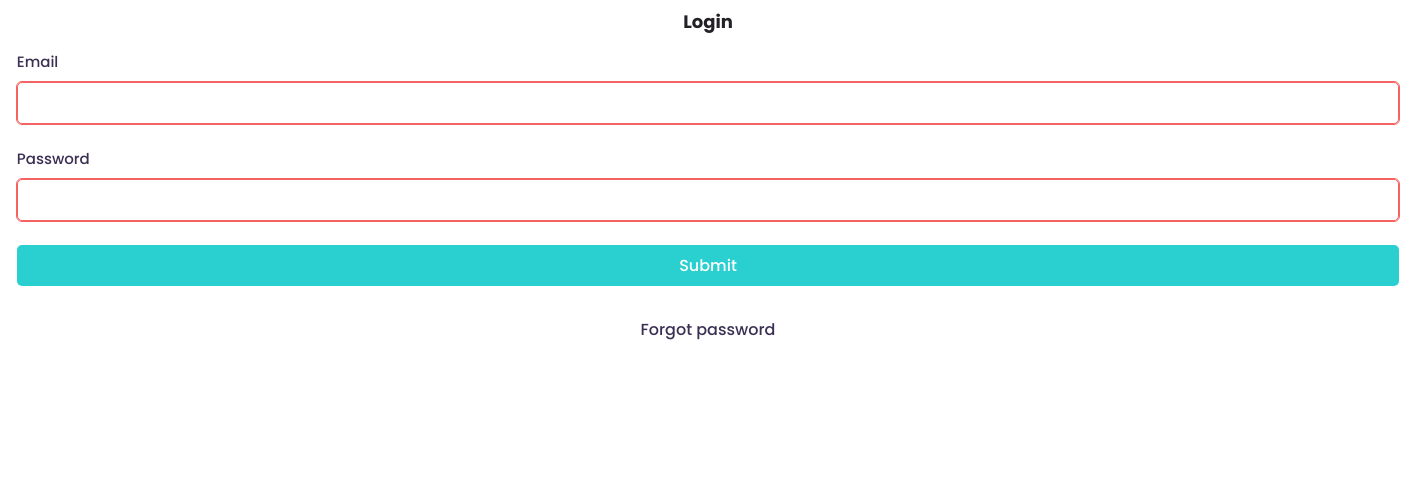
it: invalid user shows error
The image size is (1417, 481).
Step 1. Click the button "Submit" → x=708, y=266, box [17, 245, 1399, 286]
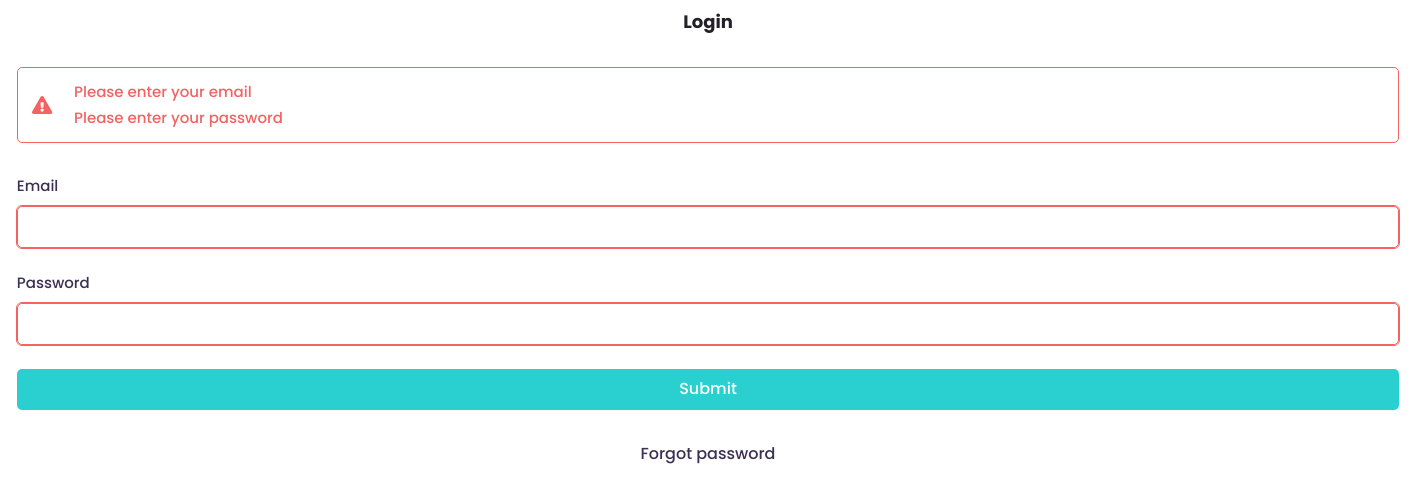
Result: the element with test id "errors" reads "Please enter your email Please enter your password" at [74, 81, 283, 128]
